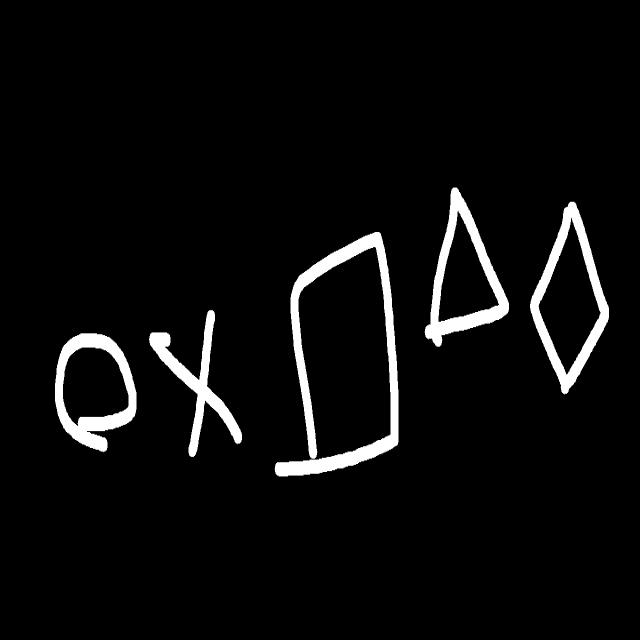circle: (56, 329, 138, 450)
cross: (148, 308, 244, 455)
diamond: (530, 198, 610, 393)
rectangle: (273, 229, 398, 476)
triangle: (424, 182, 511, 344)
